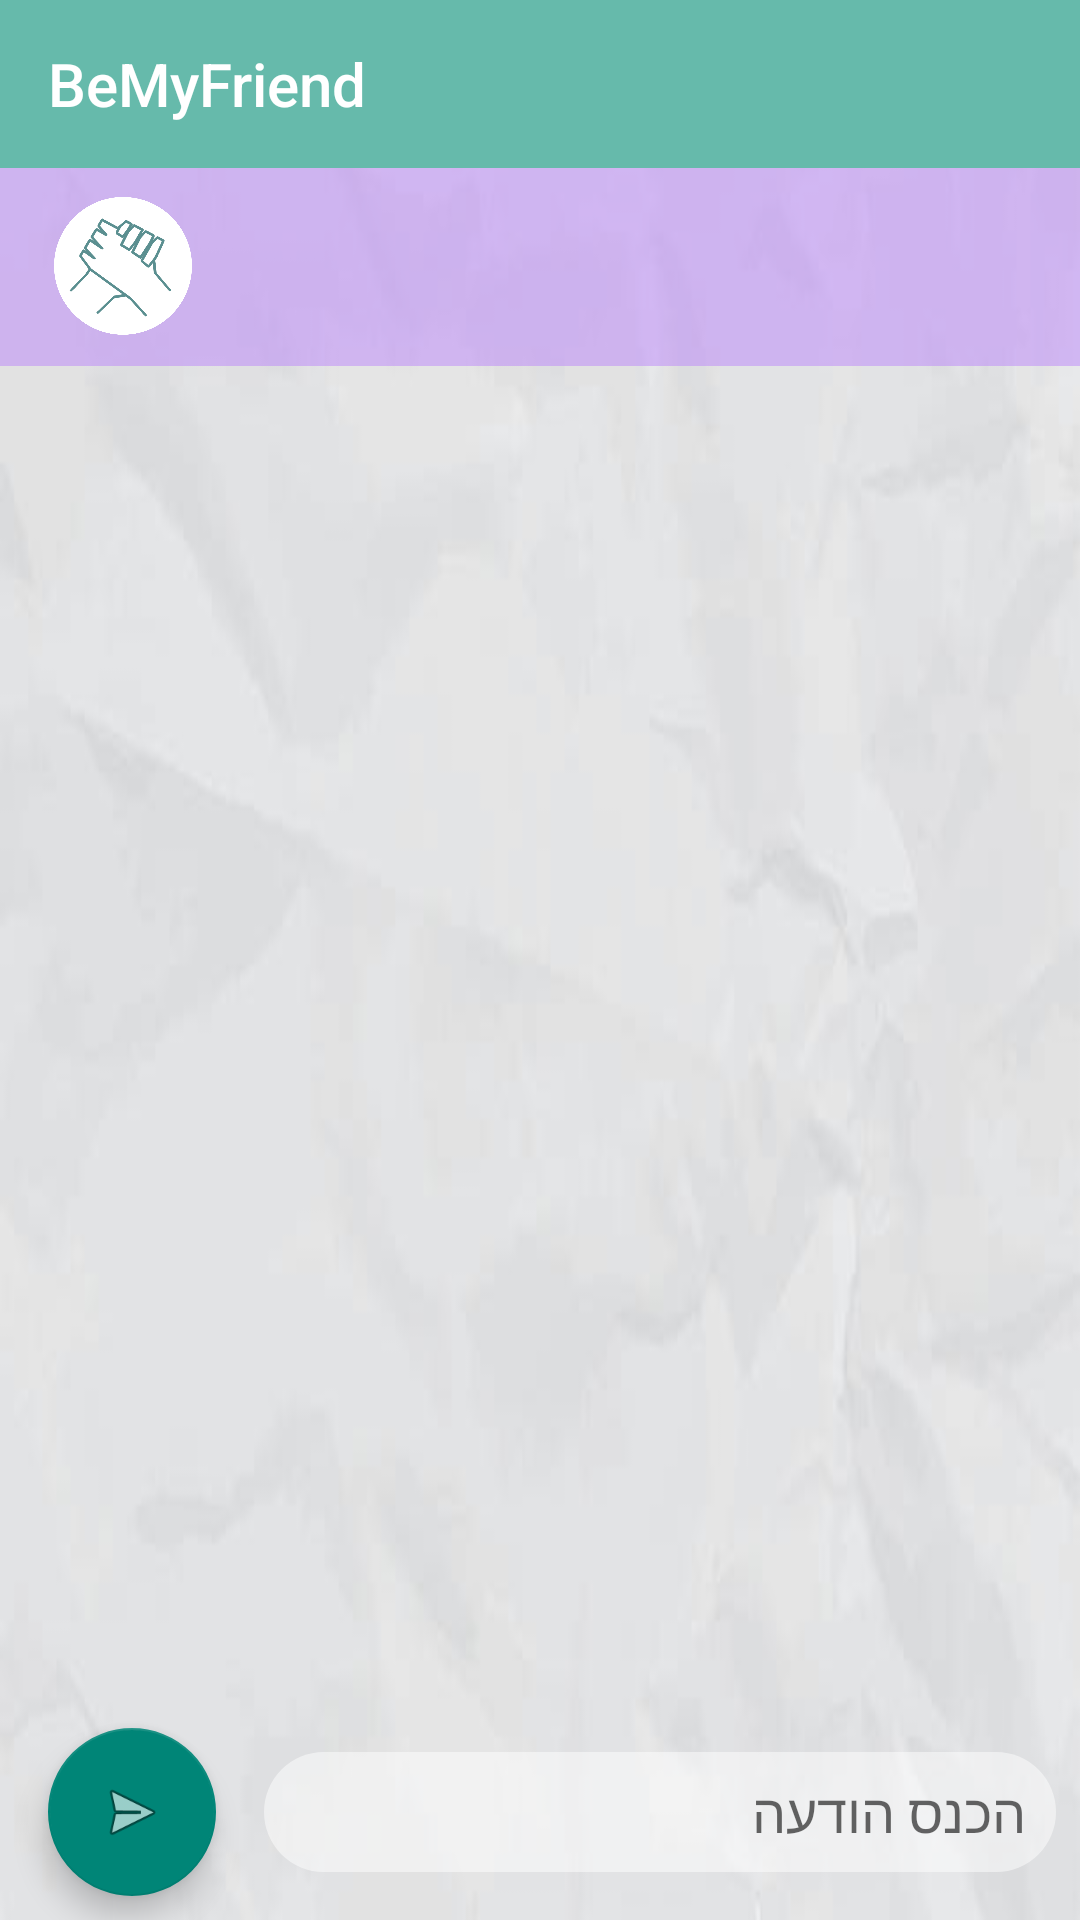

Point at icon controls on the screen. Image size 1080px x 1920px, points as [x,y].
send: [132,1812]
